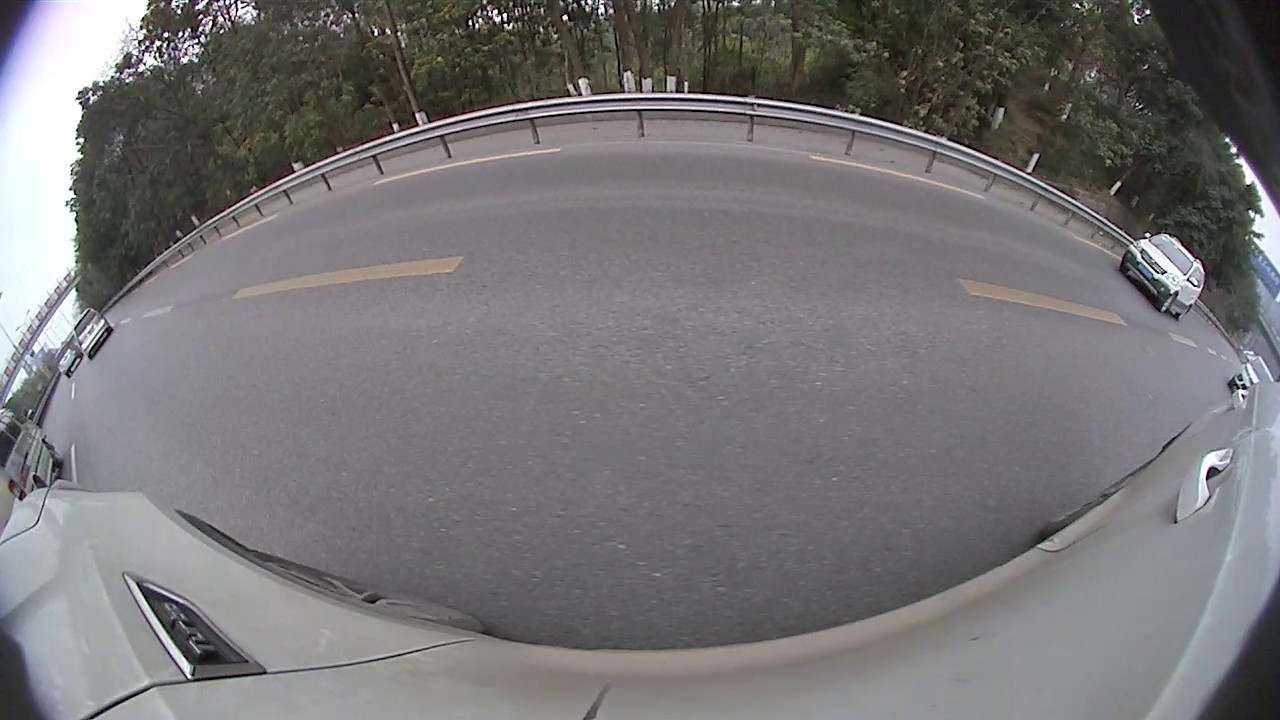bus: (896, 138, 1239, 345), (764, 123, 897, 203)
car: (1, 108, 460, 472), (593, 115, 783, 249), (1188, 335, 1279, 434), (776, 142, 852, 214), (494, 157, 571, 206), (565, 155, 598, 188)
front: (417, 201, 460, 269), (926, 197, 949, 229)
rear: (116, 304, 251, 460), (1067, 244, 1109, 294), (550, 183, 559, 198)
